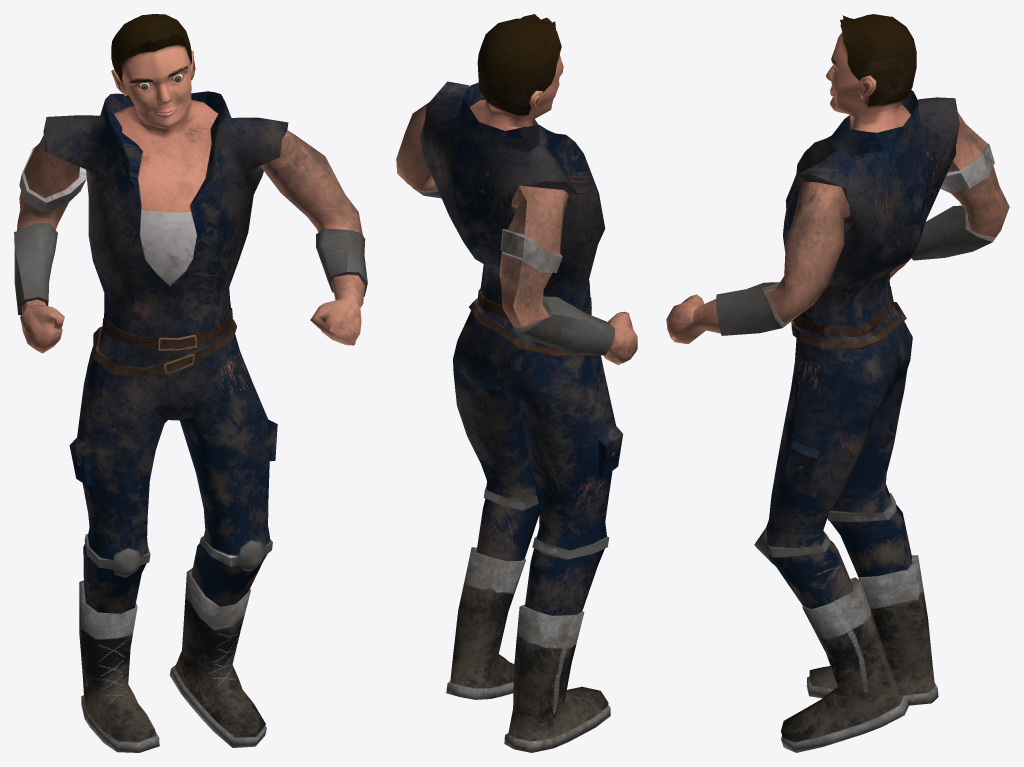
File: Anim_ataque_d1_jugador.0015.obj
3 renders of one model, left to right at view 1: azimuth 30°, elevation 25°; view 2: azimuth 150°, elevation 25°; view 3: azimuth 270°, elevation 25°, orthographic.
Visible parts, largest first — view 1: polySurface1; view 2: polySurface1; view 3: polySurface1.
Part boxes in pixels (left/top/right/bottom): polySurface1: left=14, top=14, right=367, bottom=752; polySurface1: left=396, top=14, right=637, bottom=752; polySurface1: left=666, top=14, right=1009, bottom=752.
Size of the model in its own units: 4.02 by 9.61 by 4.27.
